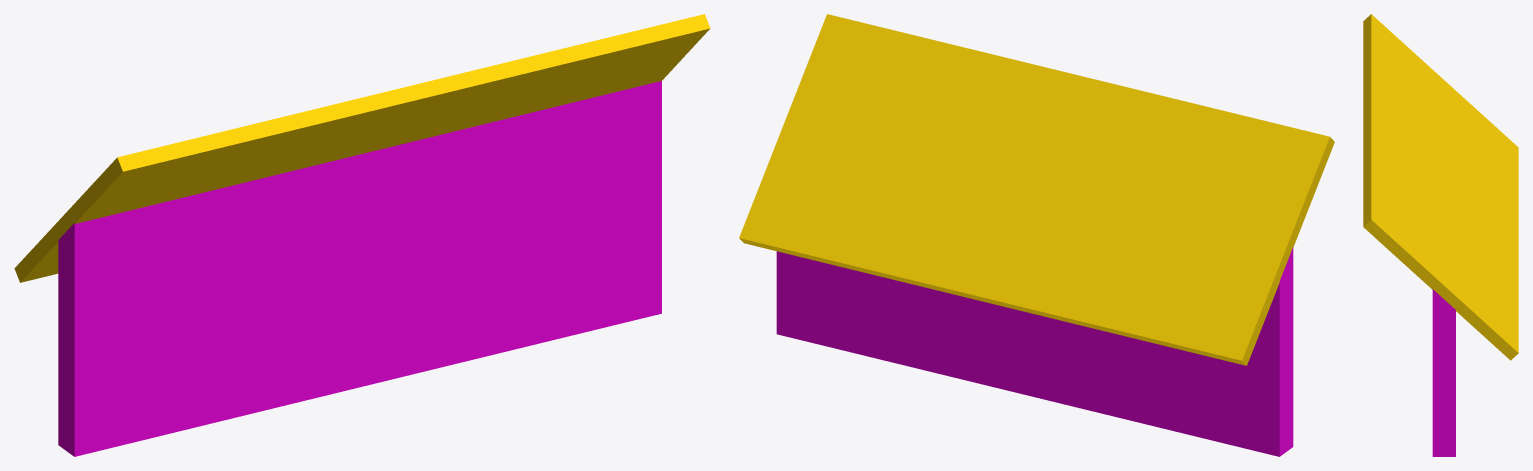
The model's file is sculpture18 Stand.fbx.
3 renders of one model, left to right at view 1: azimuth 30°, elevation 25°; view 2: azimuth 150°, elevation 25°; view 3: azimuth 270°, elevation 25°, orthographic. The views are drawn at different scales.
Parts seen in each view (by area): view 1: pink Mesh (1), yellow Mesh (1); view 2: yellow Mesh (1), pink Mesh (1); view 3: yellow Mesh (1), pink Mesh (1).
Boxes of the visible parts, x1,y1,x2,y2 form: pink Mesh (1): [58, 81, 661, 456]; yellow Mesh (1): [14, 14, 710, 282]; yellow Mesh (1): [739, 14, 1334, 365]; pink Mesh (1): [776, 247, 1293, 456]; yellow Mesh (1): [1363, 14, 1518, 360]; pink Mesh (1): [1432, 289, 1455, 456].
Size of the model in its own units: 5.25 by 2.83 by 1.68.
